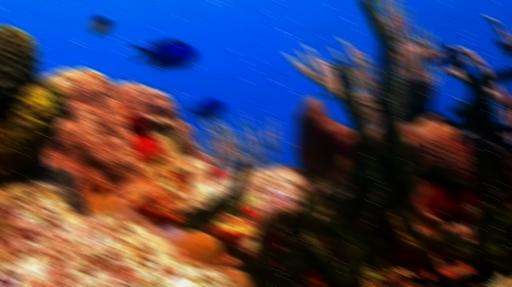Fish: (131, 39, 196, 69), (399, 78, 434, 124), (185, 100, 224, 123), (91, 15, 110, 35), (321, 89, 332, 99)
